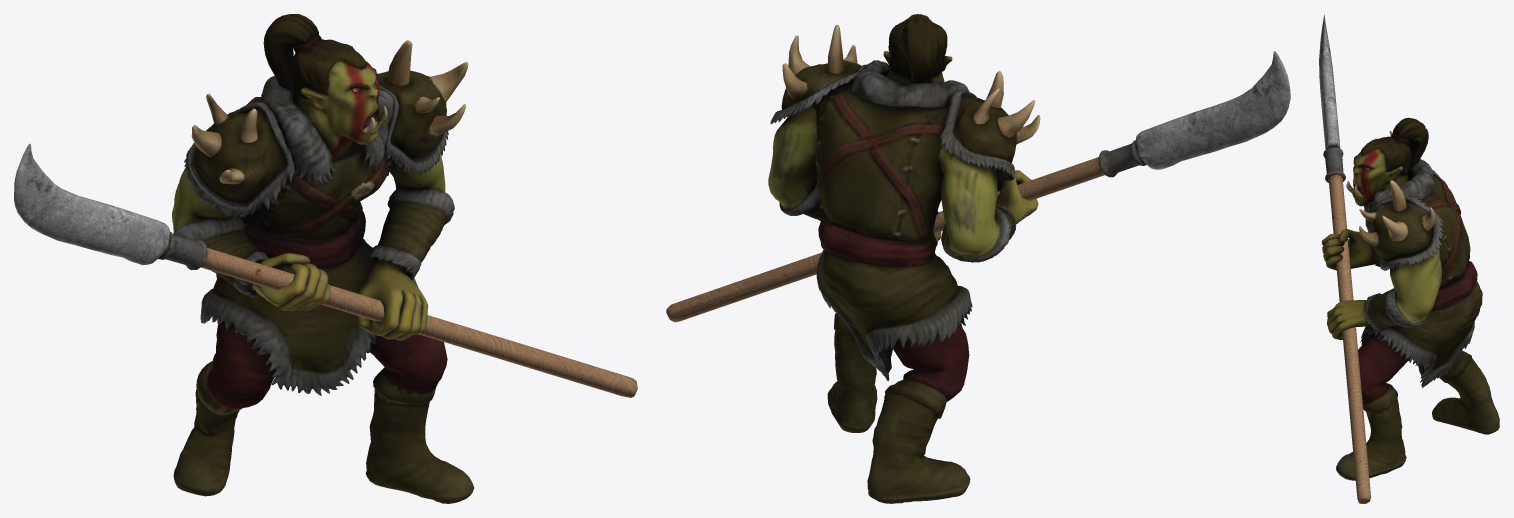
File: MZ4250 - Orc Male Warrior_red_glaive.glb
The picture shows the model from 3 angles, left to right: view 1: azimuth 30°, elevation 25°; view 2: azimuth 150°, elevation 25°; view 3: azimuth 270°, elevation 25°; orthographic projection. The views are drawn at different scales.
Visible parts, largest first — view 1: Glaive.003; view 2: Glaive.003; view 3: Glaive.003.
Boxes of the visible parts, box(x1,y1,x2,y2) form: Glaive.003: box(14, 14, 637, 503); Glaive.003: box(666, 14, 1290, 503); Glaive.003: box(1319, 14, 1499, 503).
Size of the model in its own units: 55.66 by 39.09 by 20.03.
2 materials, 2 textured.
